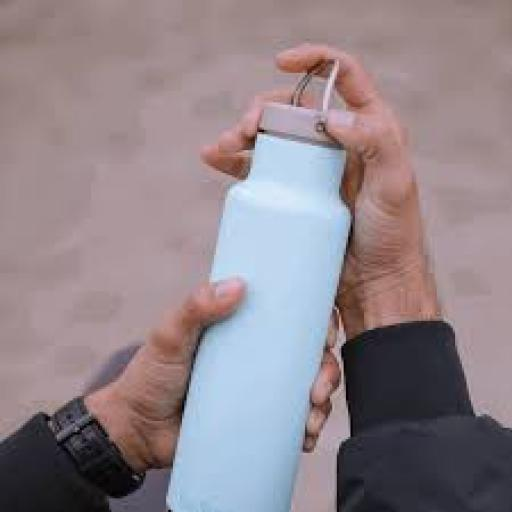blue-bottle: (166, 61, 350, 510)
